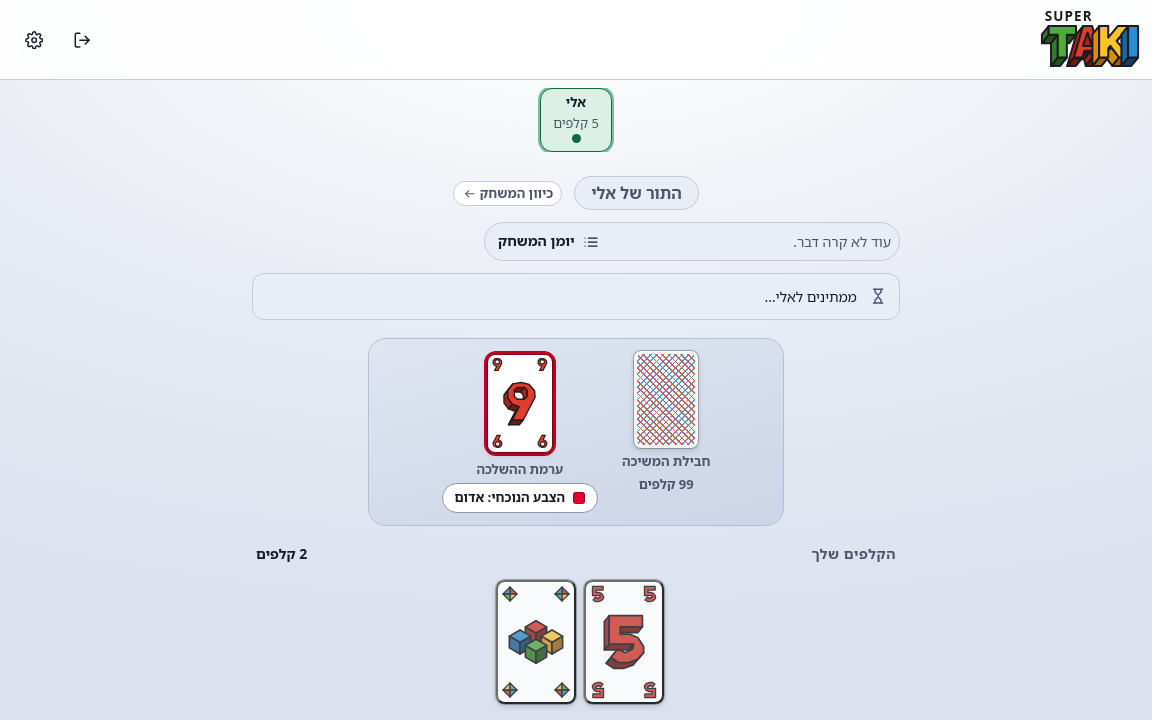
it: legal card highlighting › blocks the whole hand when it is not your turn, and says why
Click the button named "הנחת אדום 5".
click(624, 642)  # box [584,580,664,704]
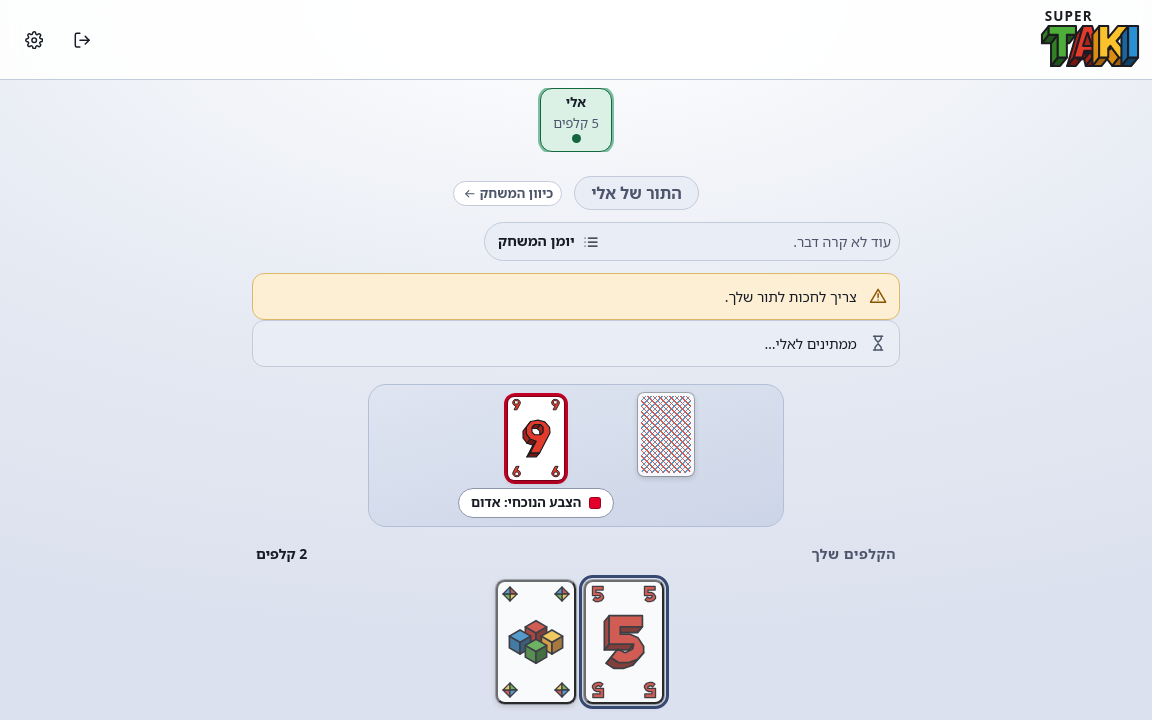
Expected: the message "צריך לחכות לתור שלך." is shown, [252,273,900,320]
